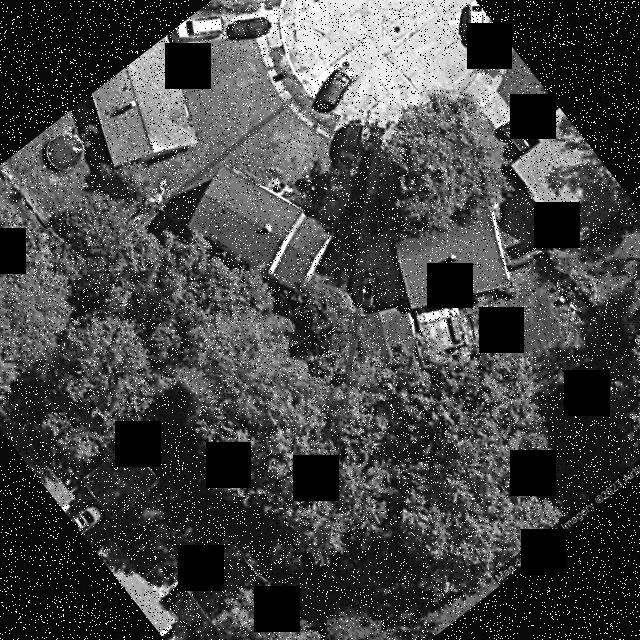Driveway: (309, 138, 367, 222)
Extra Lawn: (292, 91, 337, 131)
House: (188, 165, 334, 291)
Sidewalk: (267, 178, 291, 195)
